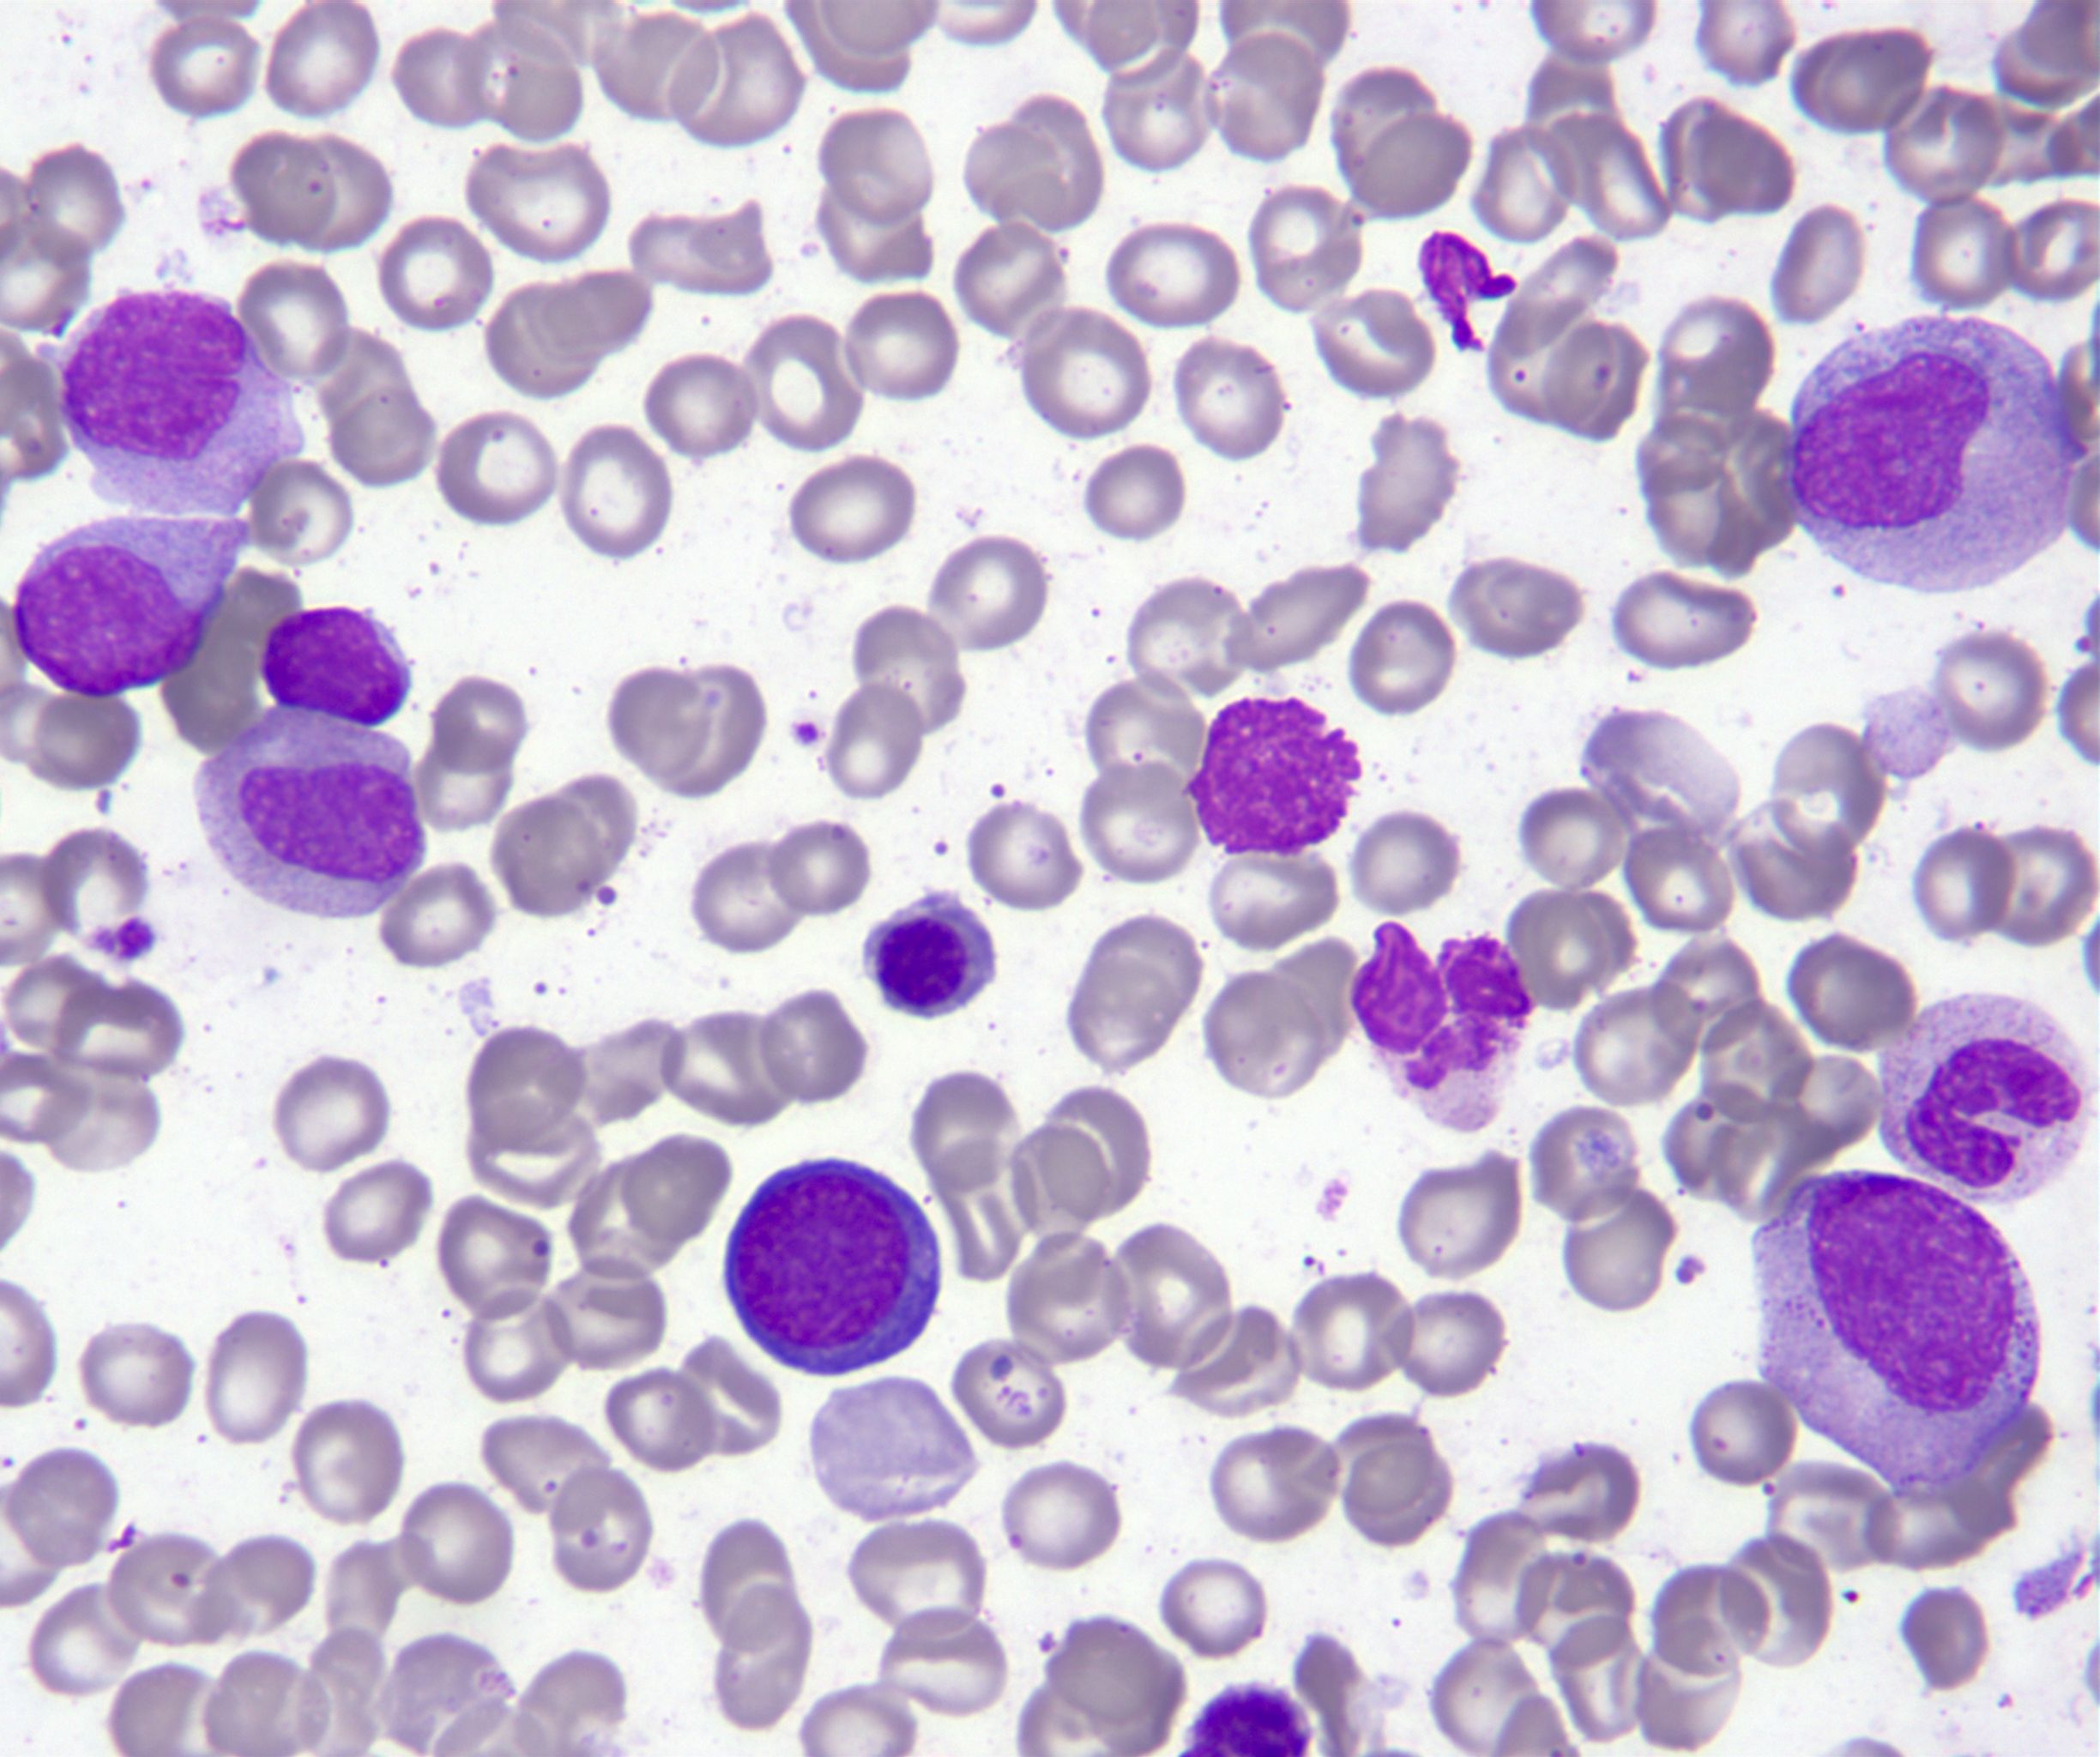22: (726, 1159, 940, 1378)
24: (863, 895, 996, 1019)
3: (1755, 1172, 2042, 1487), (195, 703, 424, 918)
32: (262, 609, 412, 726)
4: (1777, 316, 2088, 591)
42: (54, 291, 303, 513), (16, 516, 249, 698)
5: (1878, 995, 2093, 1202)
6: (1352, 923, 1535, 1132)
x: (1179, 698, 1360, 858), (1181, 1682, 1312, 1757)
